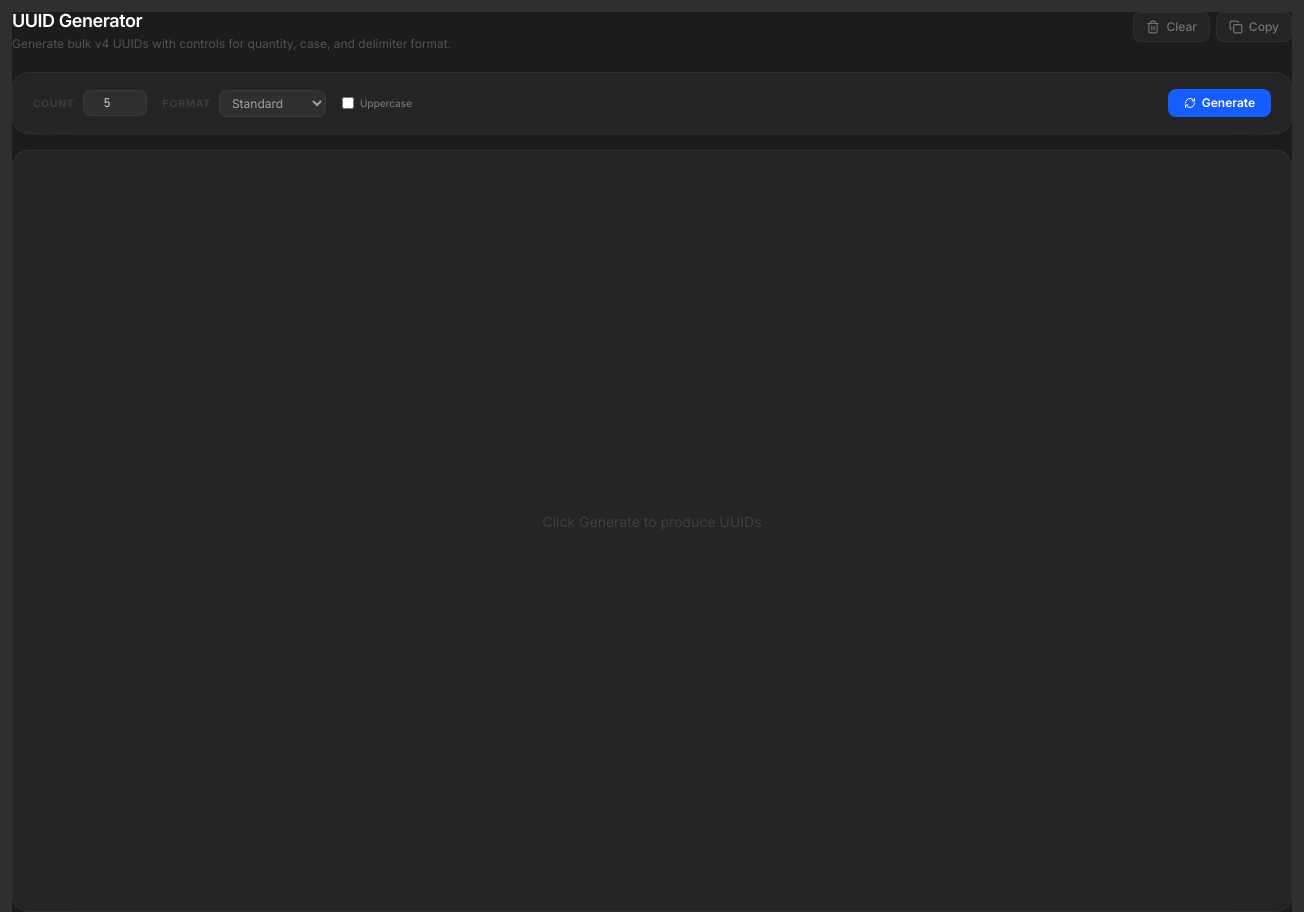
Test case: UuidGenerator › generates UUIDs when Generate button is clicked
Click the button "Generate" at (1219, 103), box left=1168, top=89, right=1271, bottom=117
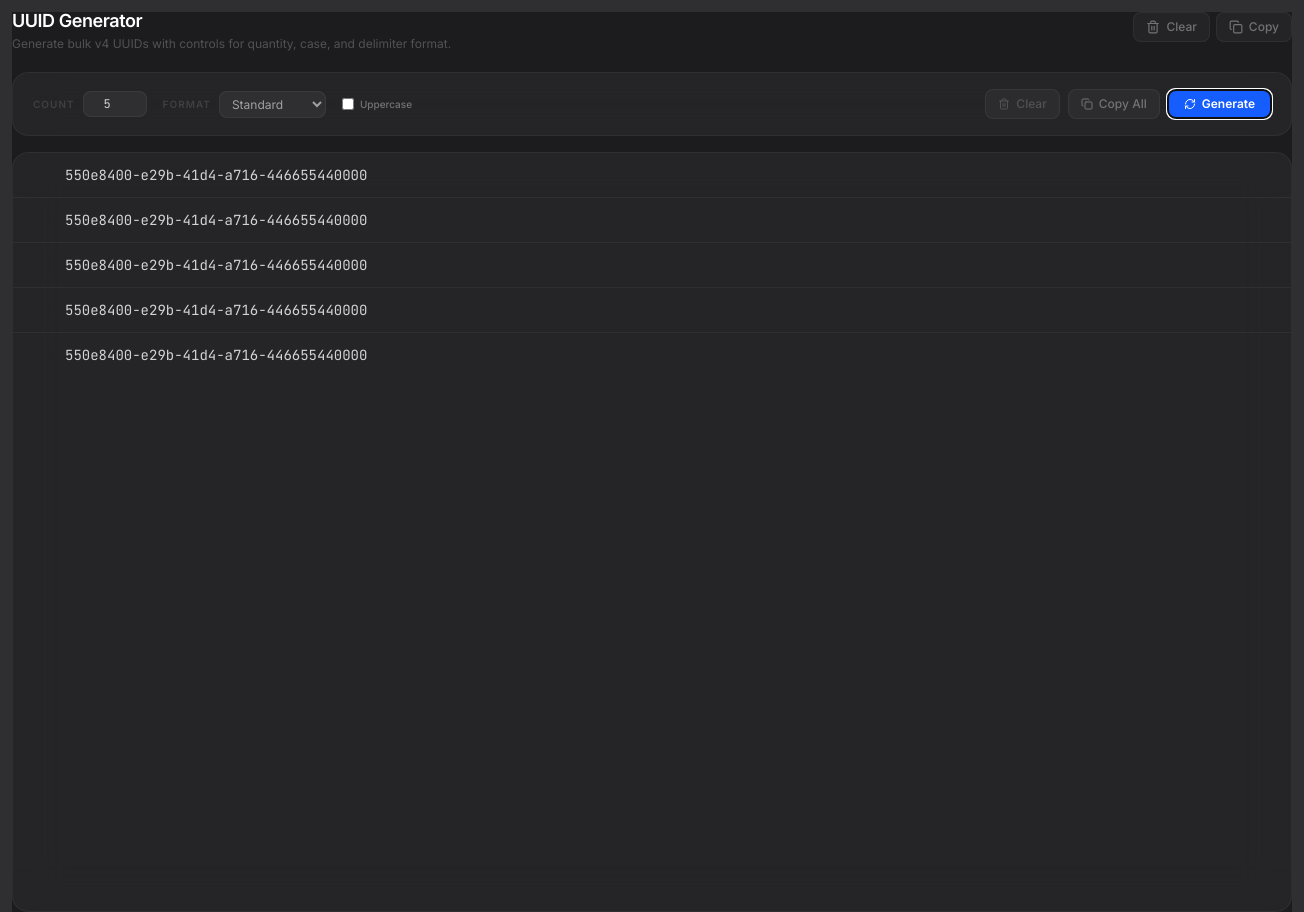
Now the 1st text "550e8400-e29b-41d4-a716-446655440000" is shown, box left=65, top=166, right=367, bottom=184
